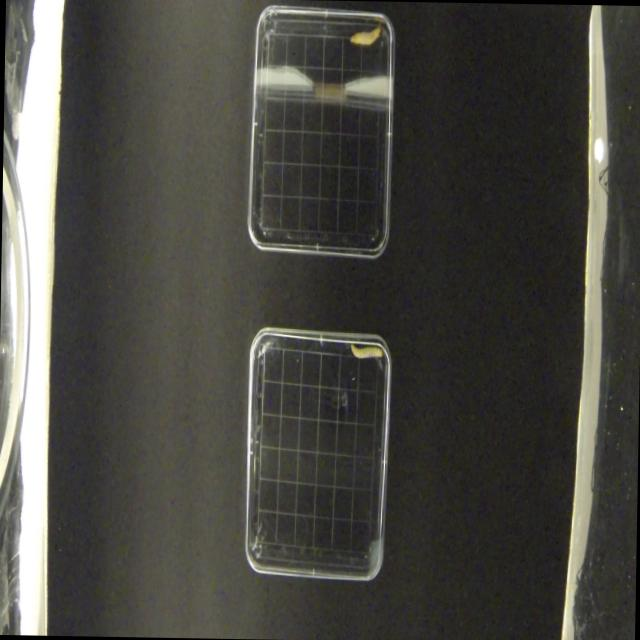larva: (349, 24, 381, 46)
